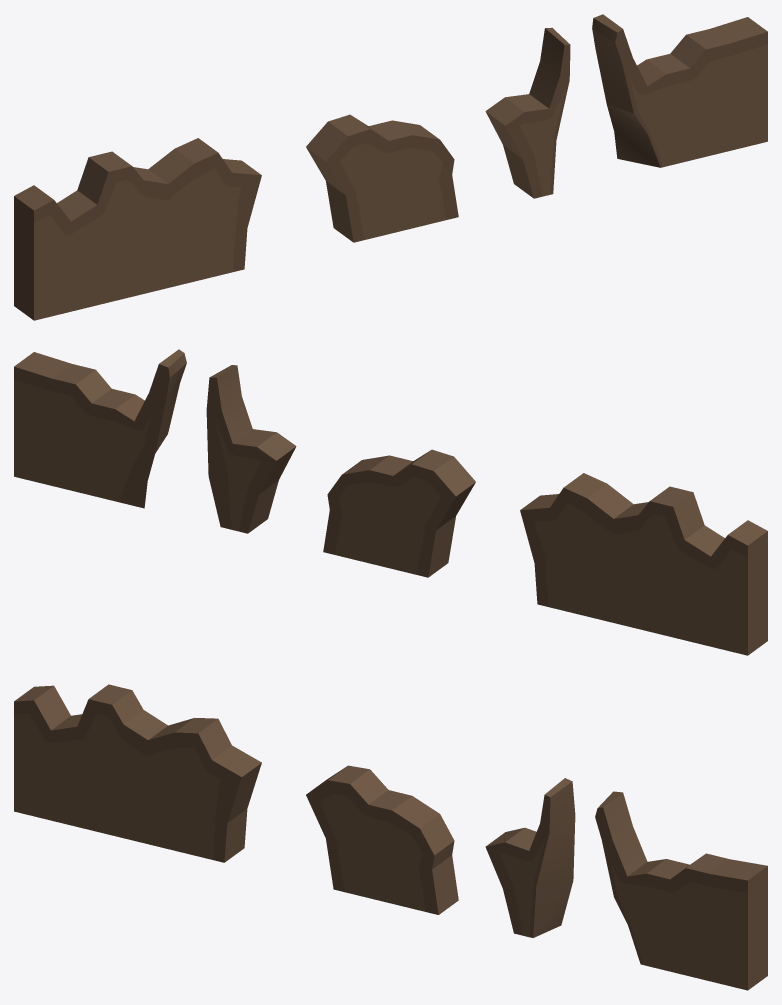
The model's file is Fishing_Under_Dirt_with_Vol.fbx.
The picture shows the model from 3 angles, top to bottom: view 1: azimuth 30°, elevation 25°; view 2: azimuth 150°, elevation 25°; view 3: azimuth 330°, elevation 25°; orthographic projection.
Visible parts, largest first — view 1: Fishing_Under_Dirt_with_Vol; view 2: Fishing_Under_Dirt_with_Vol; view 3: Fishing_Under_Dirt_with_Vol.
Boxes of the visible parts, x1,y1,x2,y2 form: Fishing_Under_Dirt_with_Vol: [14, 14, 767, 320]; Fishing_Under_Dirt_with_Vol: [14, 349, 767, 655]; Fishing_Under_Dirt_with_Vol: [14, 684, 767, 990].
Size of the model in its own units: 4215 by 815 by 200.
